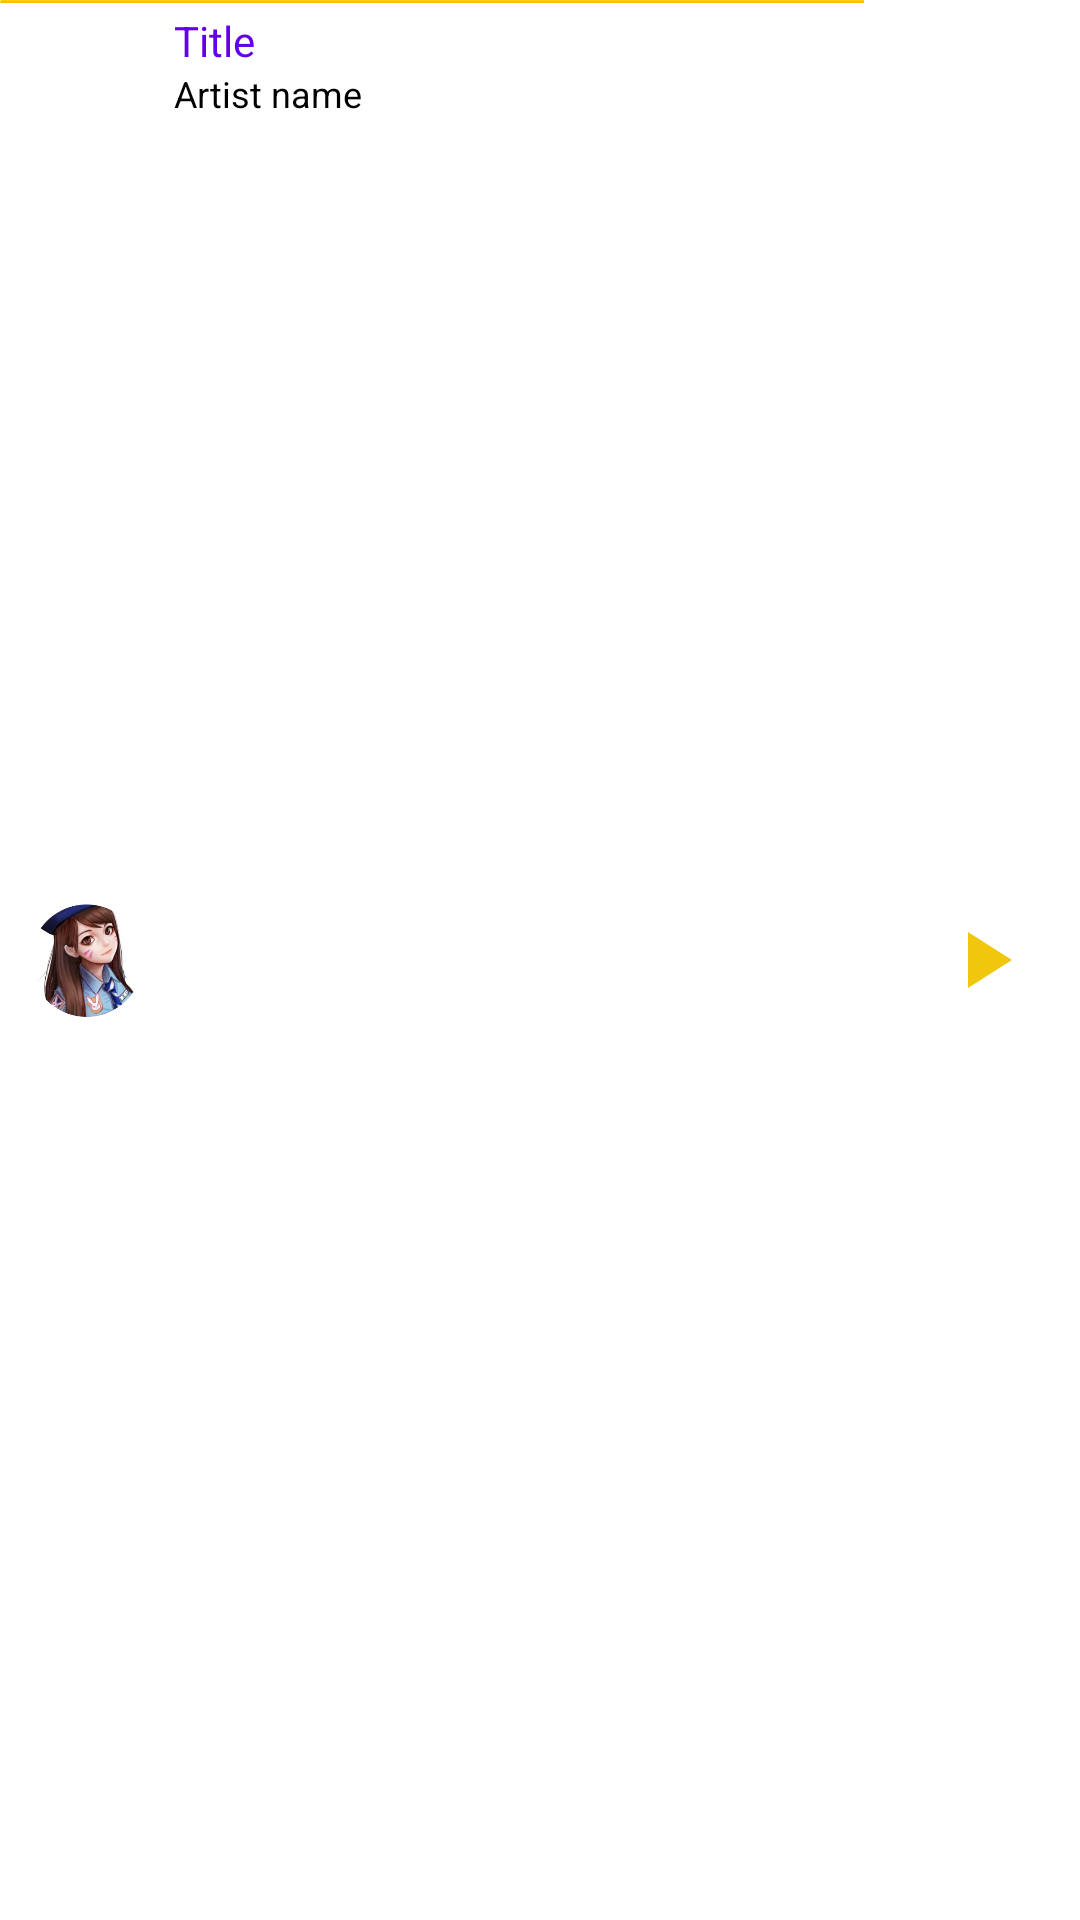

Screen size 1080x1920. Icon name, then its center in pixels as [x,y]:
play arrow: [990,960]
